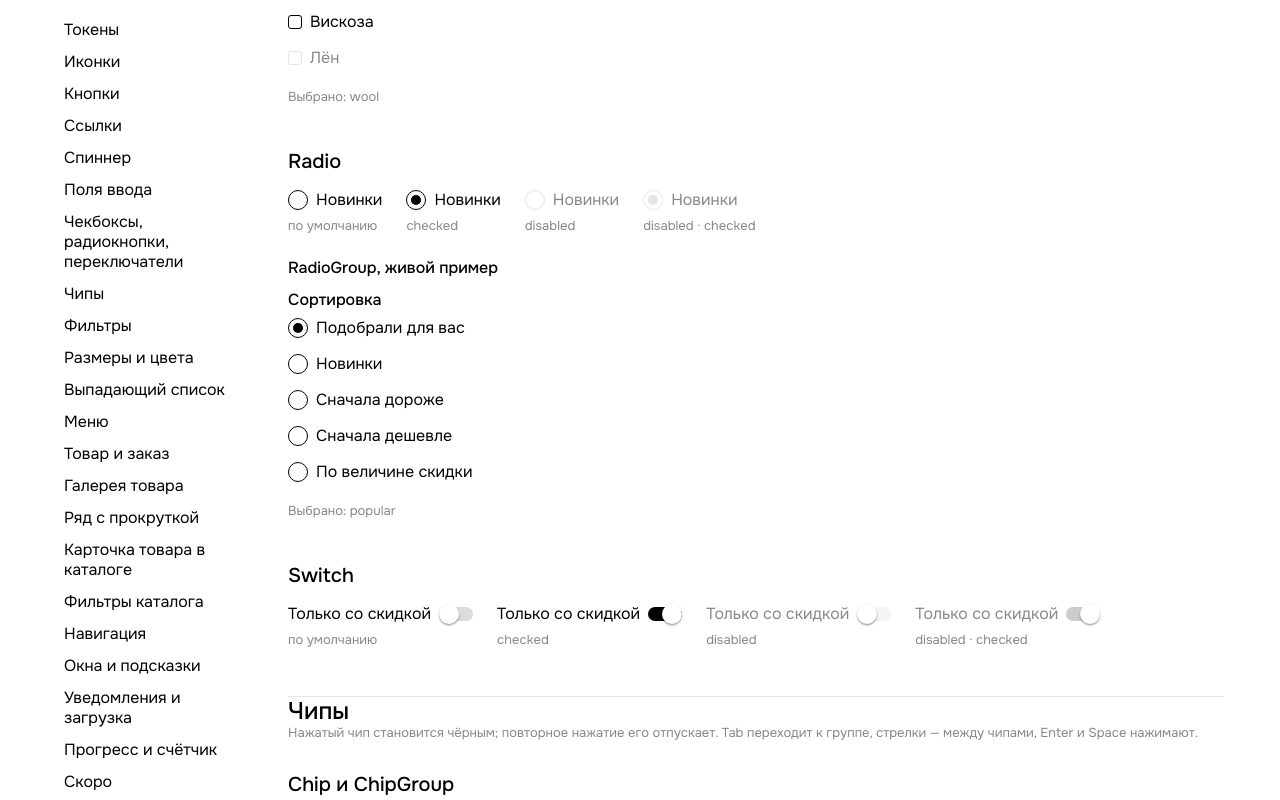
Test: radio group demo › shows the pick after a click and after the arrow keys
The width and height of the screenshot is (1280, 800).
(page scrolled)
Click the text "Сначала дороже" at (380, 400), box [316, 390, 444, 410]
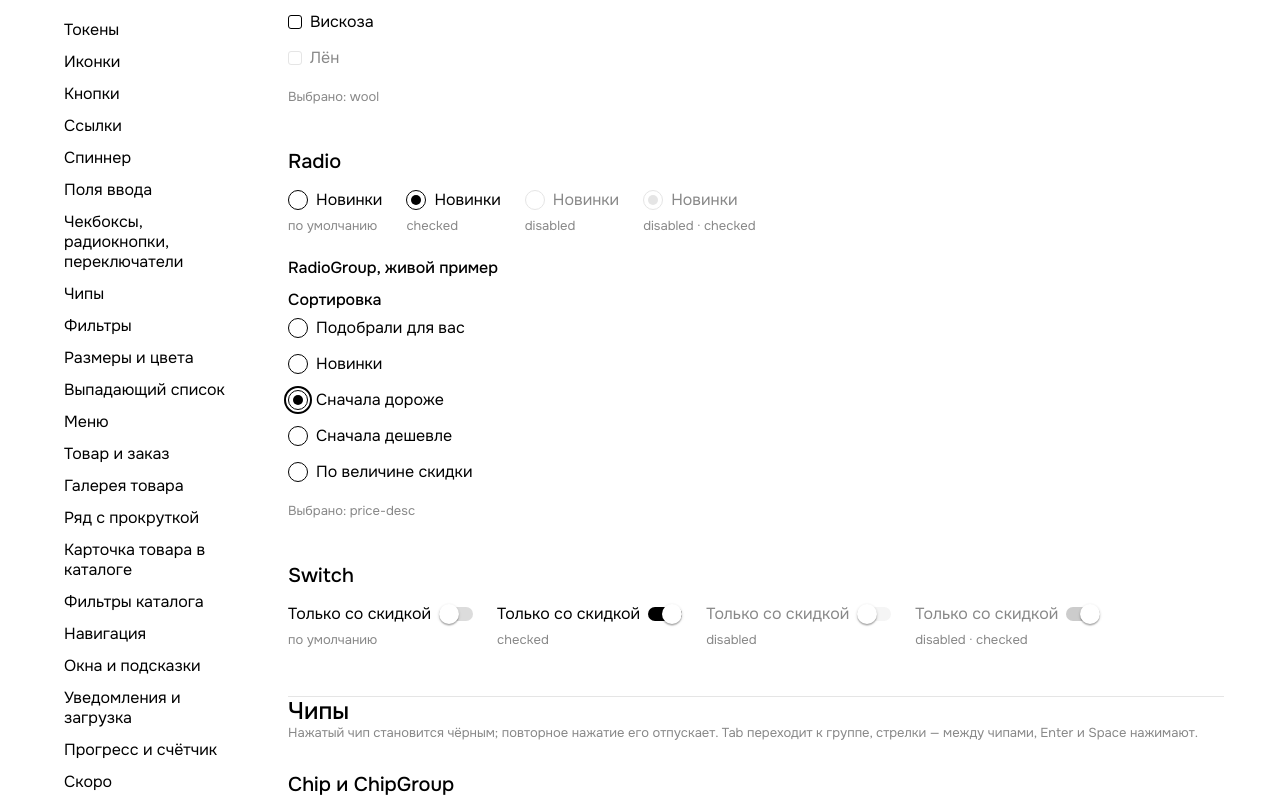
Expected: the text "Выбрано: price-desc" is shown, [288, 503, 415, 519]
Press Arrowdown
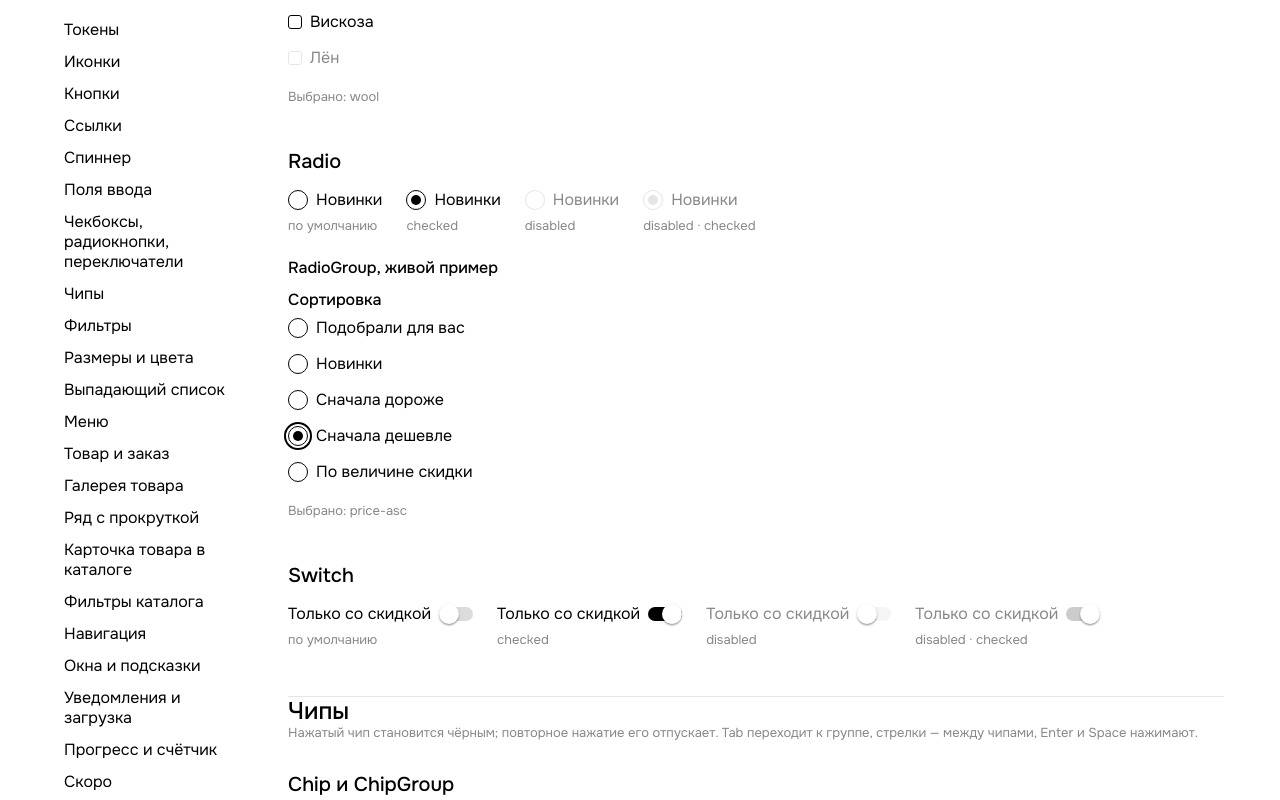
Expected: the text "Выбрано: price-asc" is shown, [288, 503, 407, 519]
Press Arrowup
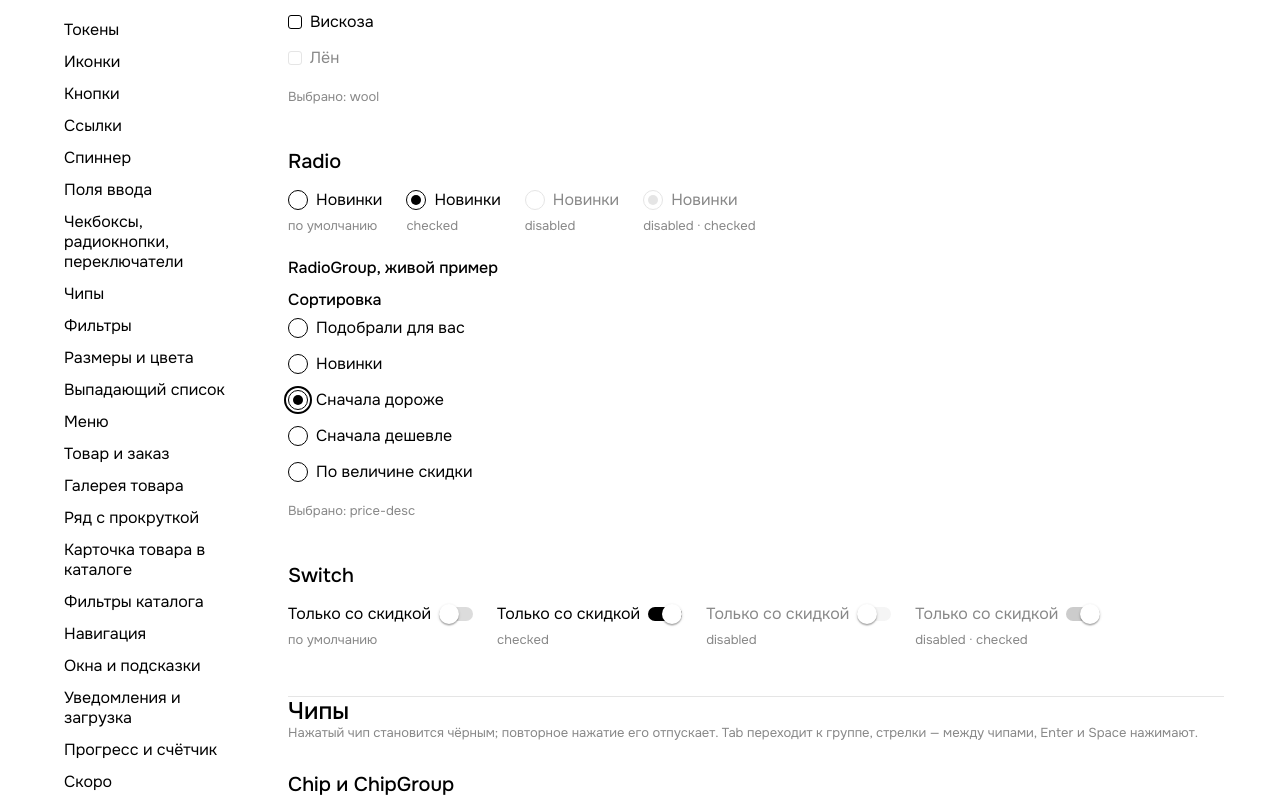
Expected: the text "Выбрано: price-desc" is shown, [288, 503, 415, 519]
